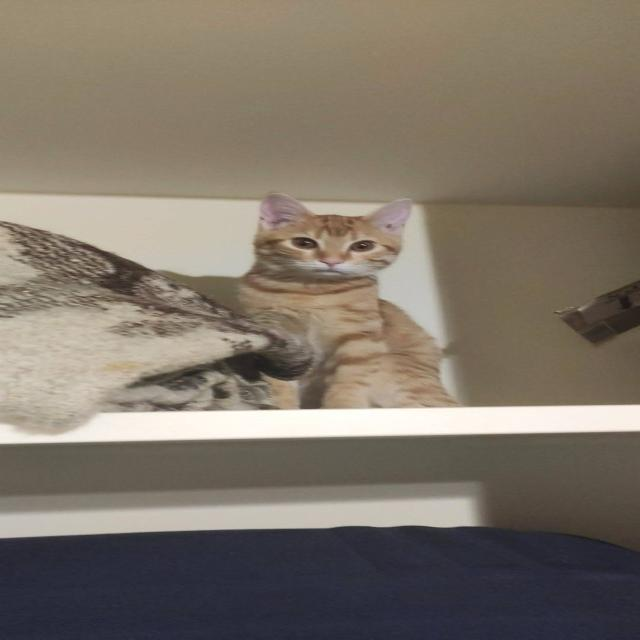red_cat: (219, 188, 489, 414)
